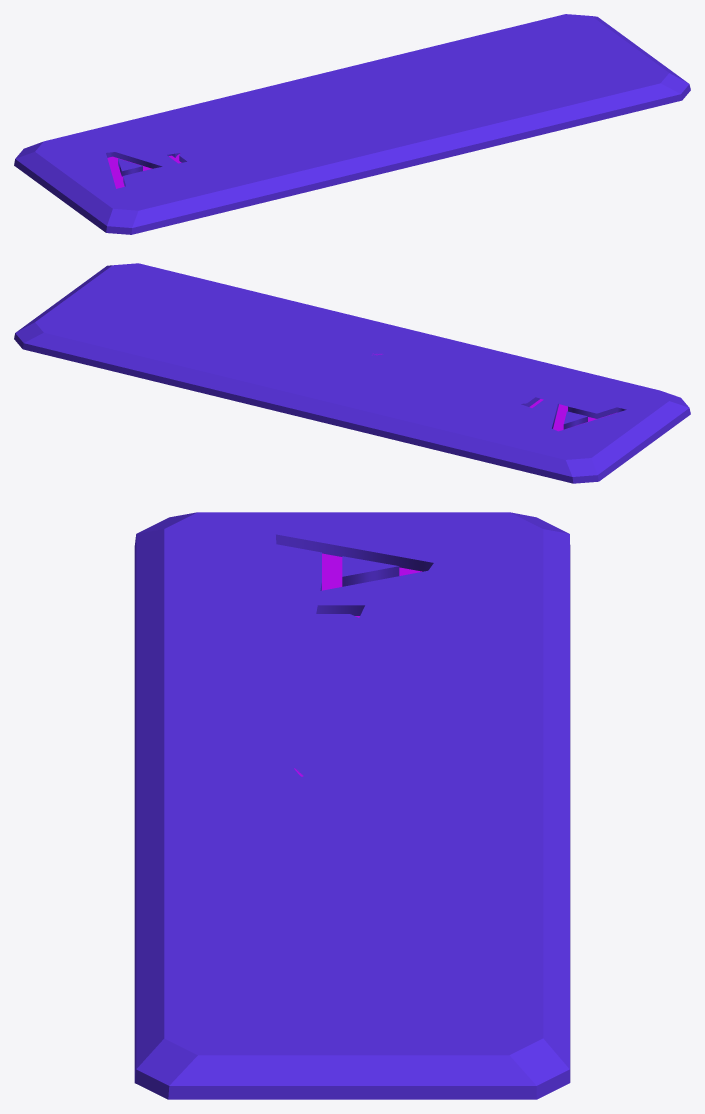
Rendered from Statue_Plate_Angrad_Veyr.fbx.
3 renders of one model, top to bottom at view 1: azimuth 30°, elevation 25°; view 2: azimuth 150°, elevation 25°; view 3: azimuth 270°, elevation 25°, orthographic. The views are drawn at different scales.
Parts seen in each view (by area): view 1: Statue_Plate_Angrad_Veyr; view 2: Statue_Plate_Angrad_Veyr; view 3: Statue_Plate_Angrad_Veyr.
Part boxes in pixels (bbox=[...]): Statue_Plate_Angrad_Veyr: bbox=[14, 14, 690, 234]; Statue_Plate_Angrad_Veyr: bbox=[14, 263, 690, 483]; Statue_Plate_Angrad_Veyr: bbox=[134, 512, 570, 1099].
Size of the model in its own units: 0.6827 by 0.2201 by 0.0171.
